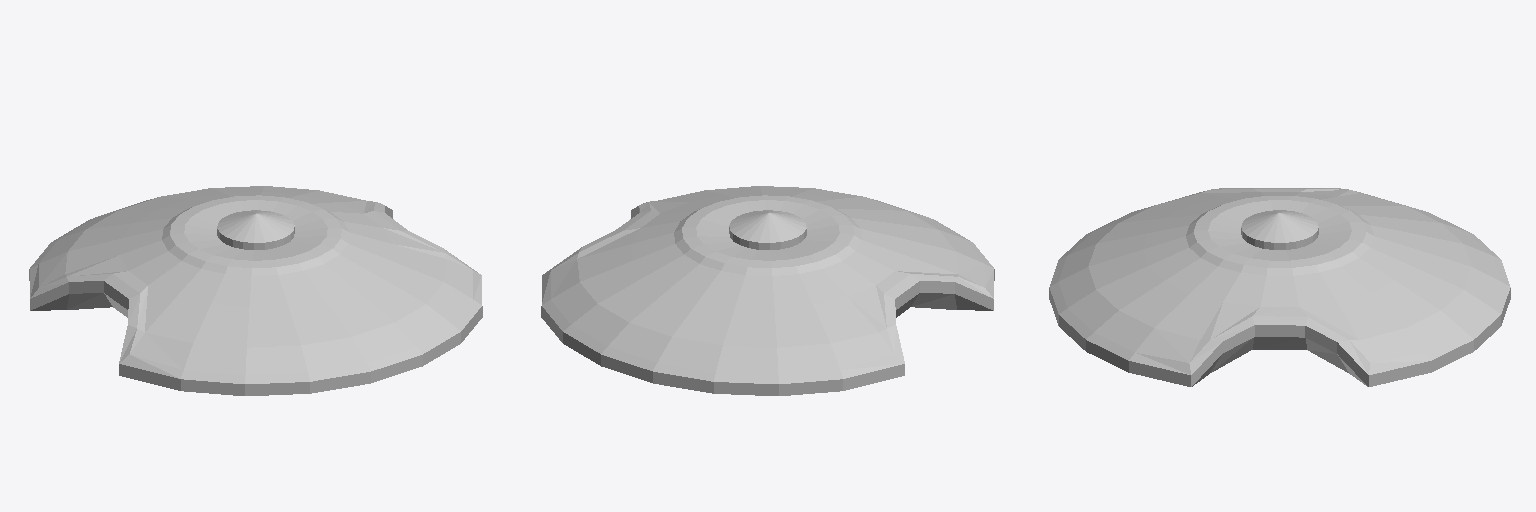
The model's file is shield_lower_poly.obj.
3 views of the same model, side by side, from view 1: azimuth 30°, elevation 25°; view 2: azimuth 150°, elevation 25°; view 3: azimuth 270°, elevation 25° (orthographic).
Visible parts, largest first — view 1: shield; view 2: shield; view 3: shield.
Boxes of the visible parts, box(x1,y1,x2,y2) form: shield: box(29, 186, 482, 395); shield: box(541, 186, 994, 395); shield: box(1049, 188, 1510, 386).
Bounding box in the file's own units: 188 × 42.55 × 207.